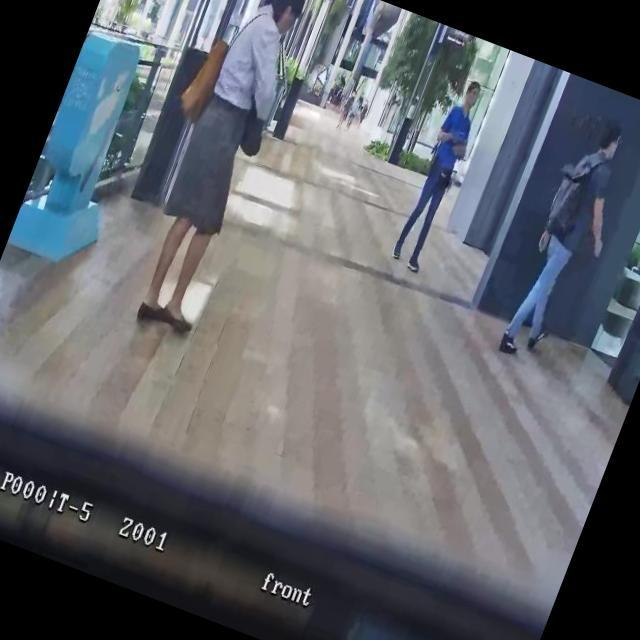person: (120, 0, 322, 341), (495, 113, 640, 374), (386, 74, 492, 276), (342, 90, 366, 132), (336, 90, 358, 132), (354, 98, 372, 129)
